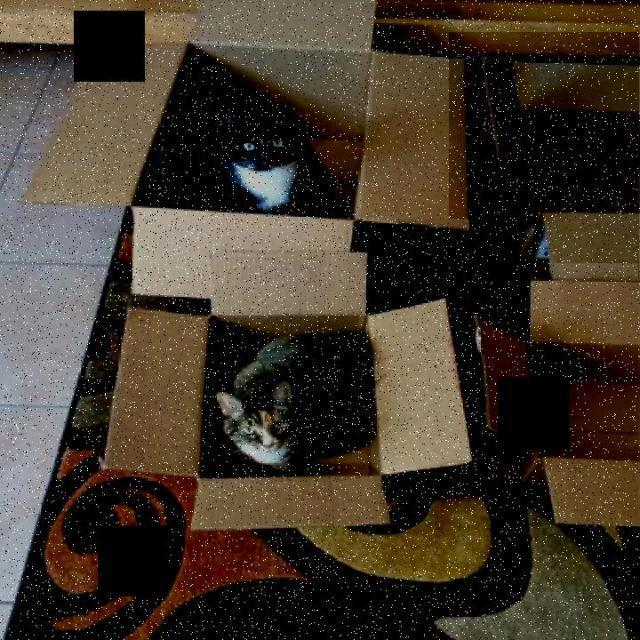box: (91, 218, 476, 590), (2, 0, 480, 297), (444, 263, 638, 592), (449, 32, 639, 279)
